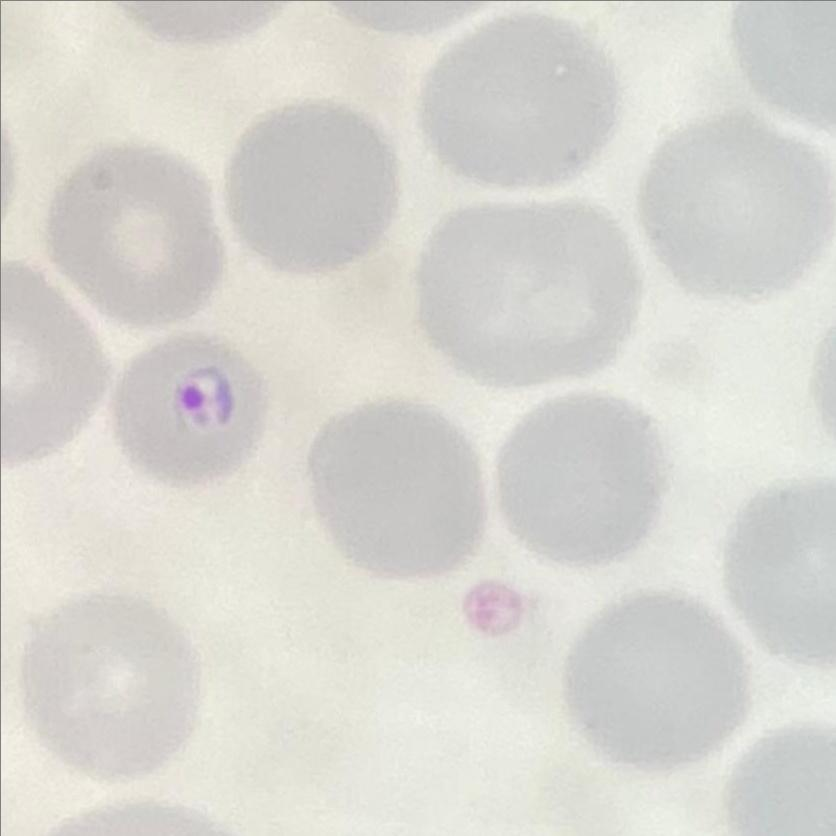Infected: (110, 330, 268, 488)
Uninfected: (423, 195, 638, 387), (417, 10, 615, 189), (637, 120, 836, 295), (303, 392, 487, 580), (562, 590, 751, 773), (17, 592, 202, 774), (45, 140, 224, 323), (495, 390, 672, 566), (230, 100, 394, 272), (718, 472, 836, 672), (0, 260, 110, 465)
